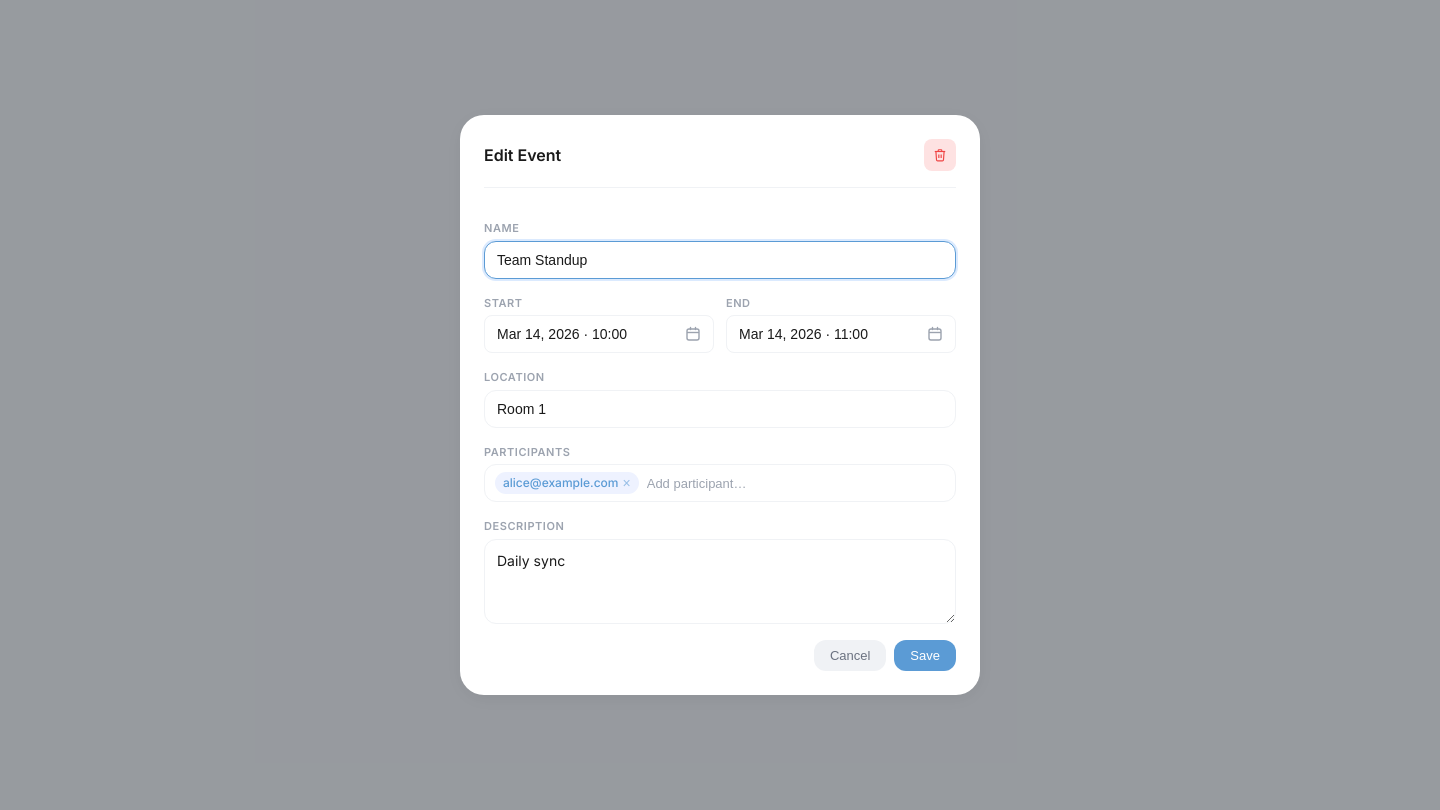
Test: EventEditModal — participants › removes a participant when the × button is clicked
Click the button titled "Remove alice@example.com". click: click(627, 483)
box: [622,476,631,490]
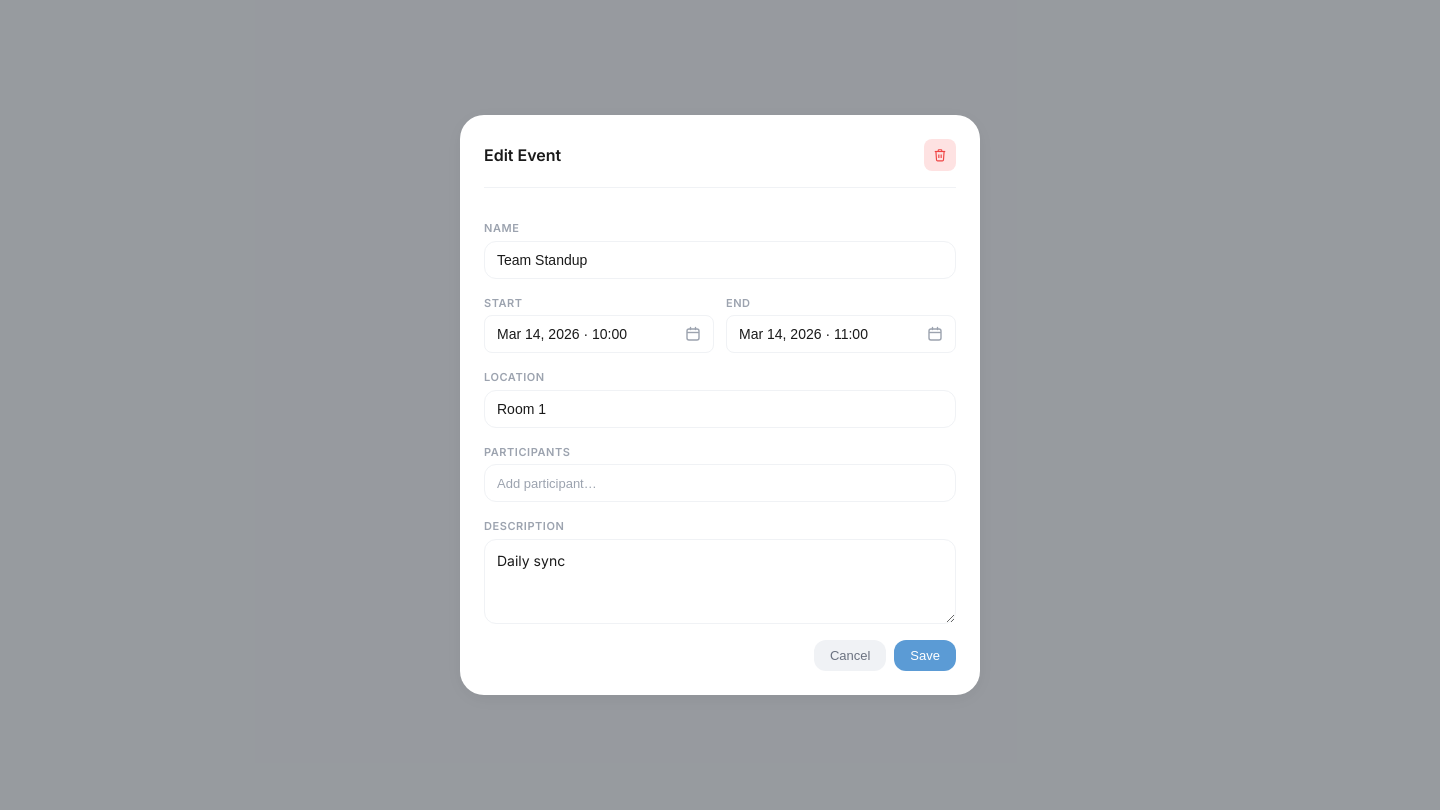
Result: the text "alice@example.com" is gone
